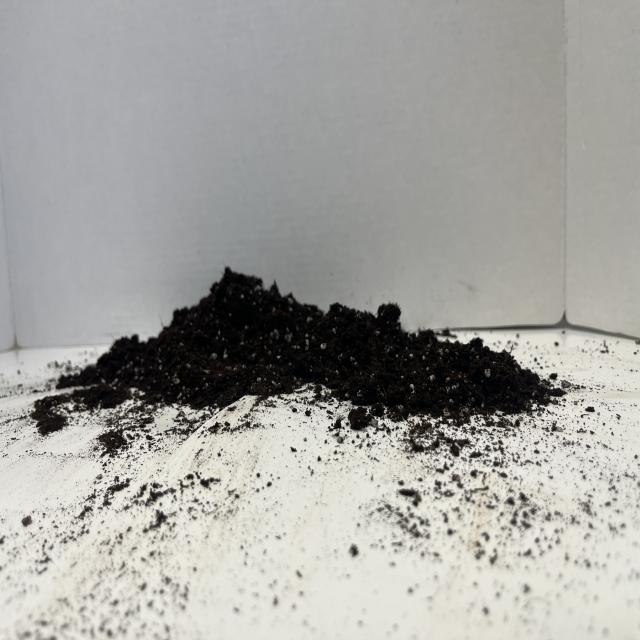soil: (29, 263, 571, 441)
